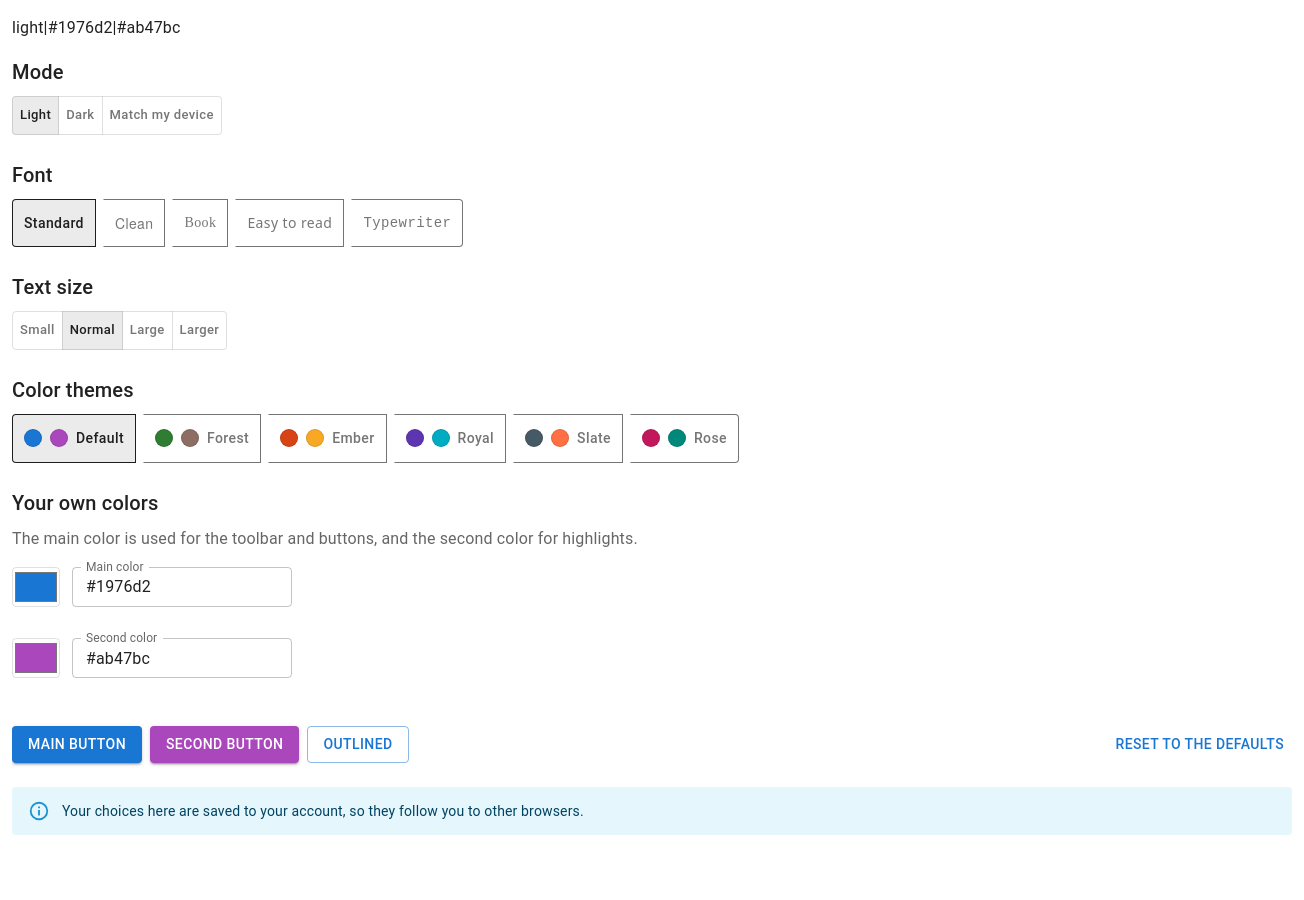
Test: your own colors › says what's wrong with a code that isn't one, and puts the old color back when you leave
Replace the text in the field labelled "Main color" with "bluish" at {"x": 182, "y": 586}, box [72,566,292,606]
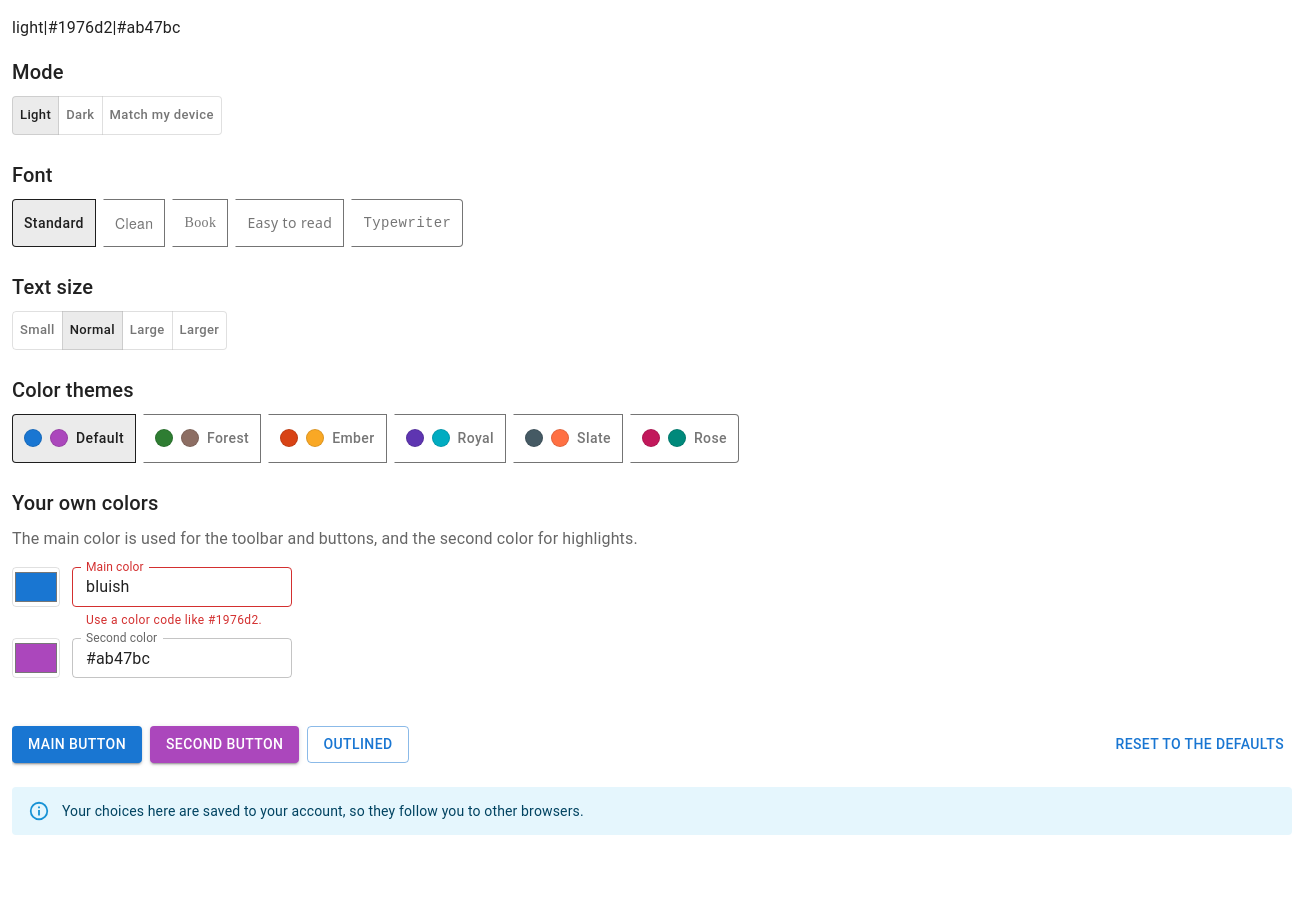
Expected: the text with test id "probe" reads "light|#1976d2|#ab47bc", [12,18,44,37]
Expected: the text "Use a color code like #1976d2." is shown, [86,610,278,630]
Leave the field labelled "Main color", box [72,566,292,606]
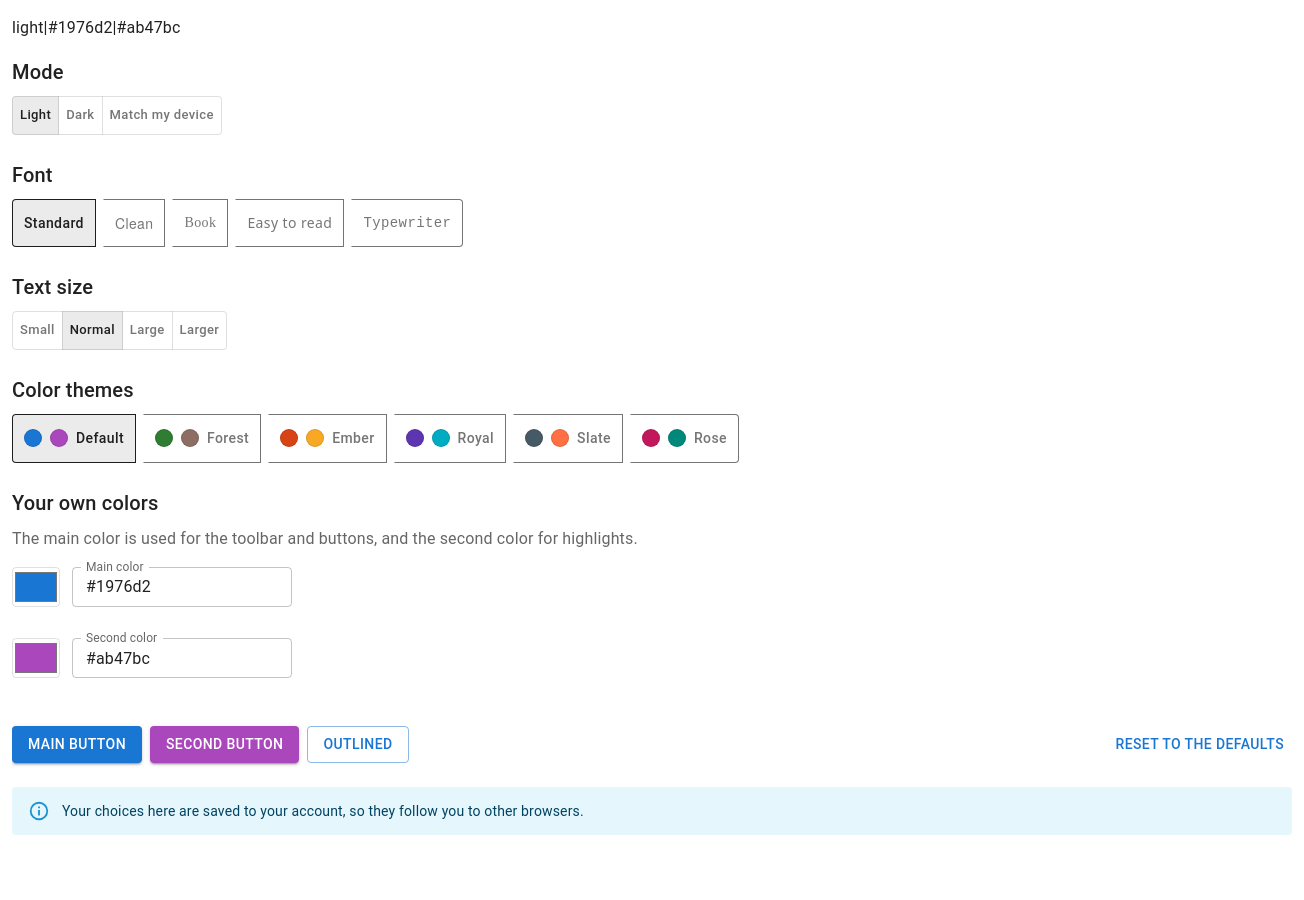
Expected: the field labelled "Main color" holds "#1976d2", [72,566,292,606]
Expected: the text "Use a color code like #1976d2." is gone
